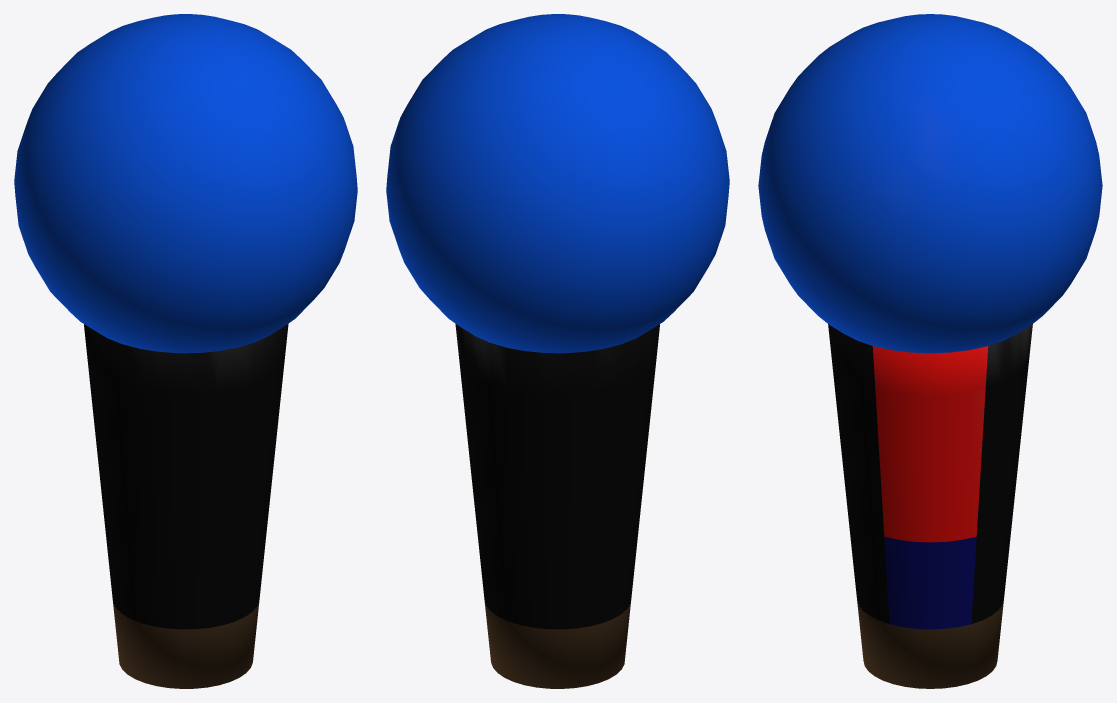
Rendered from CiviHatless.fbx.
The picture shows the model from 3 angles, left to right: view 1: azimuth 30°, elevation 25°; view 2: azimuth 150°, elevation 25°; view 3: azimuth 270°, elevation 25°; orthographic projection.
Visible parts, largest first — view 1: Cylinder; view 2: Cylinder; view 3: Cylinder.
Boxes of the visible parts, bbox=[...] form: Cylinder: bbox=[14, 14, 357, 688]; Cylinder: bbox=[386, 14, 729, 688]; Cylinder: bbox=[758, 14, 1102, 688].
Bounding box in the file's own units: 0.5154 × 1.04 × 0.5154.
